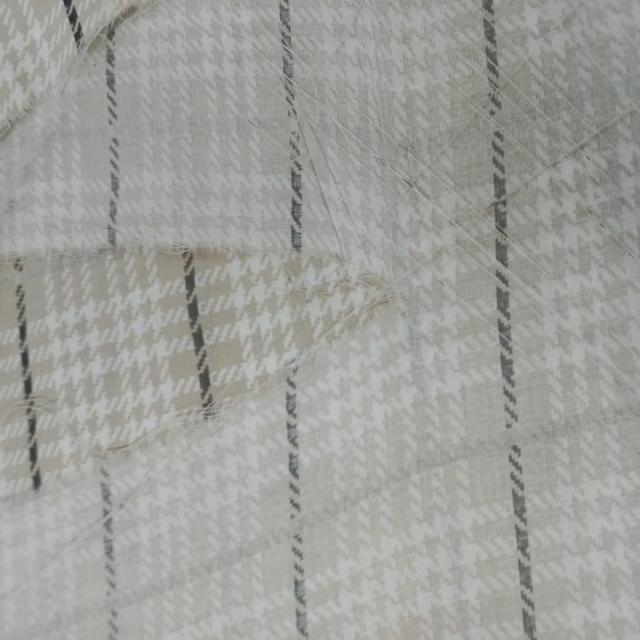cut: (0, 226, 411, 507)
